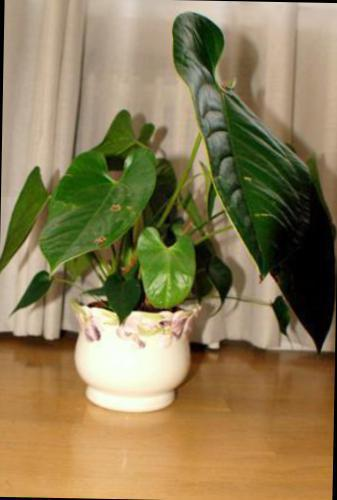Matera: (0, 3, 337, 415)
